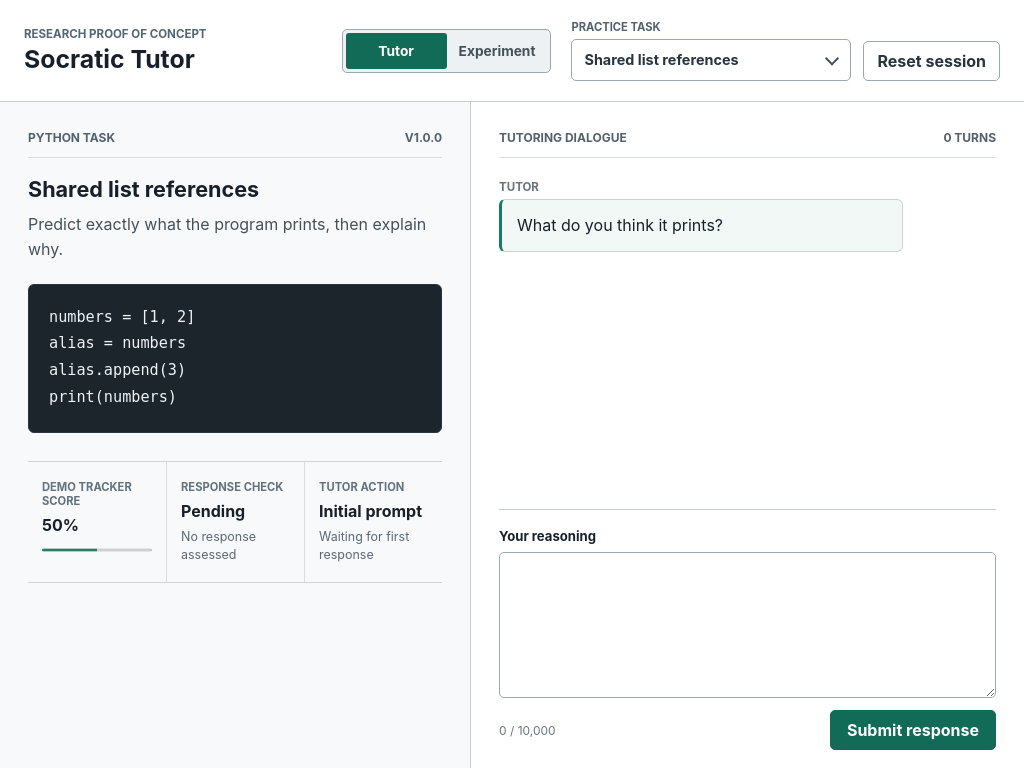
Test: switches to a different authored task
Select "Missing values and valid zeroes" in the dropdown labelled "Practice task" at (712, 60), box x1=572 y1=39 x2=852 y2=81
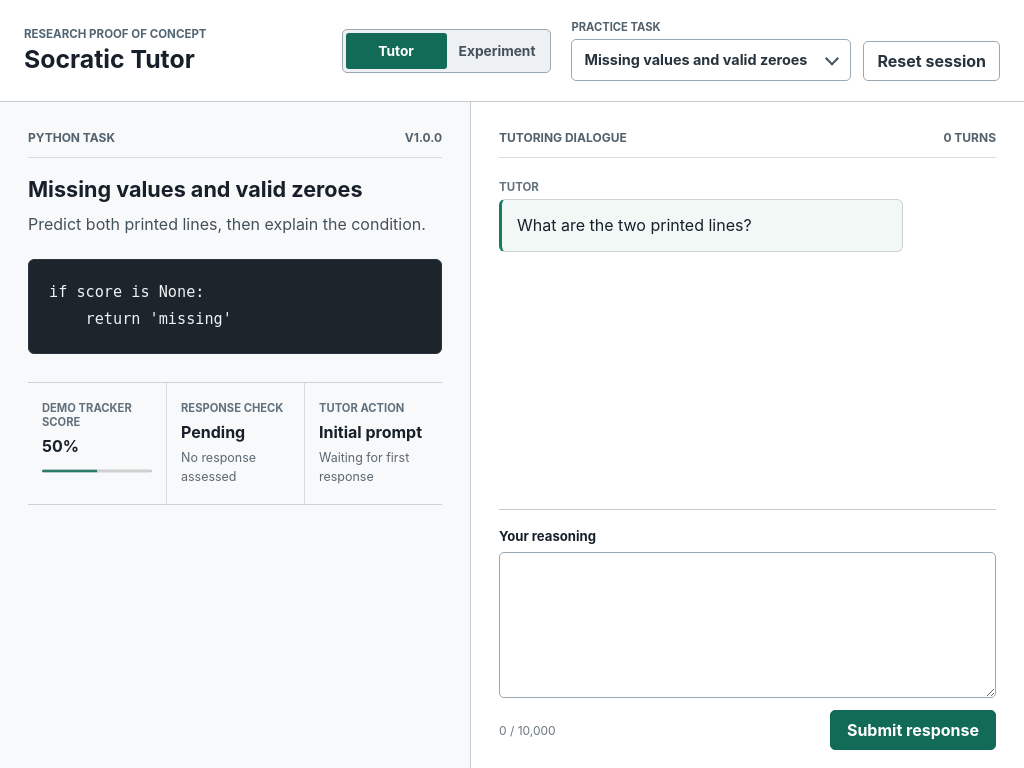
Check: the heading "Missing values and valid zeroes" is shown, box x1=28 y1=176 x2=362 y2=202
